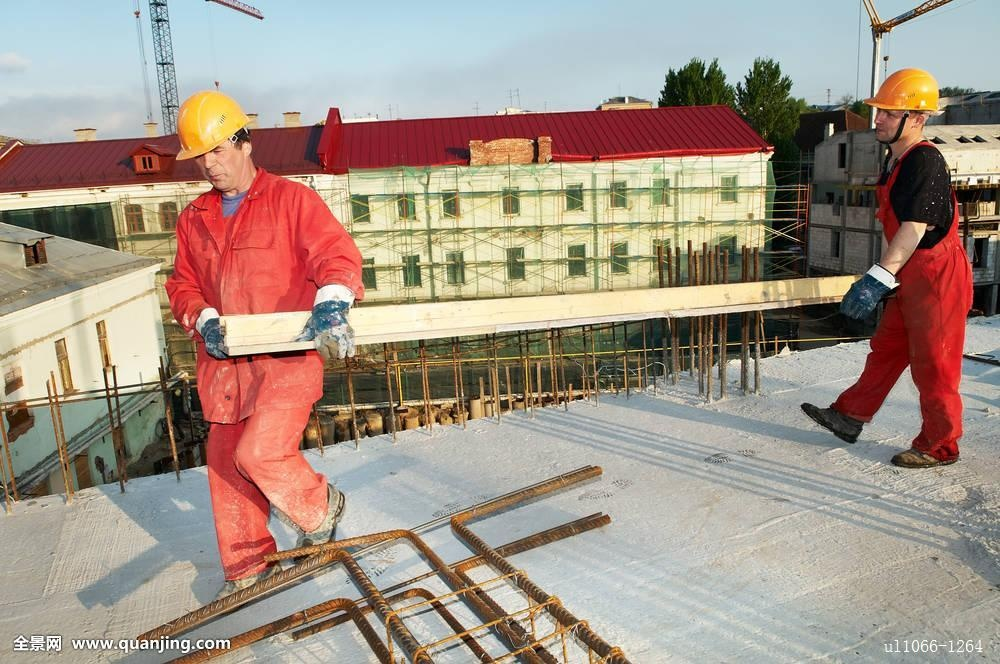yellow: (171, 89, 260, 197), (866, 67, 944, 154)
